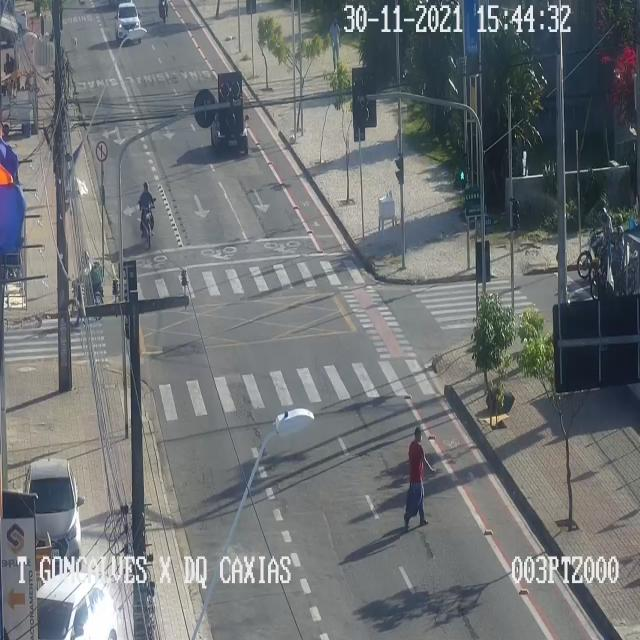Car: (38, 568, 120, 639), (23, 459, 83, 553), (206, 93, 257, 165), (116, 3, 141, 42)
Motorcycle: (589, 225, 631, 299), (576, 209, 620, 279), (67, 250, 103, 322), (139, 182, 155, 250), (155, 0, 180, 26)
